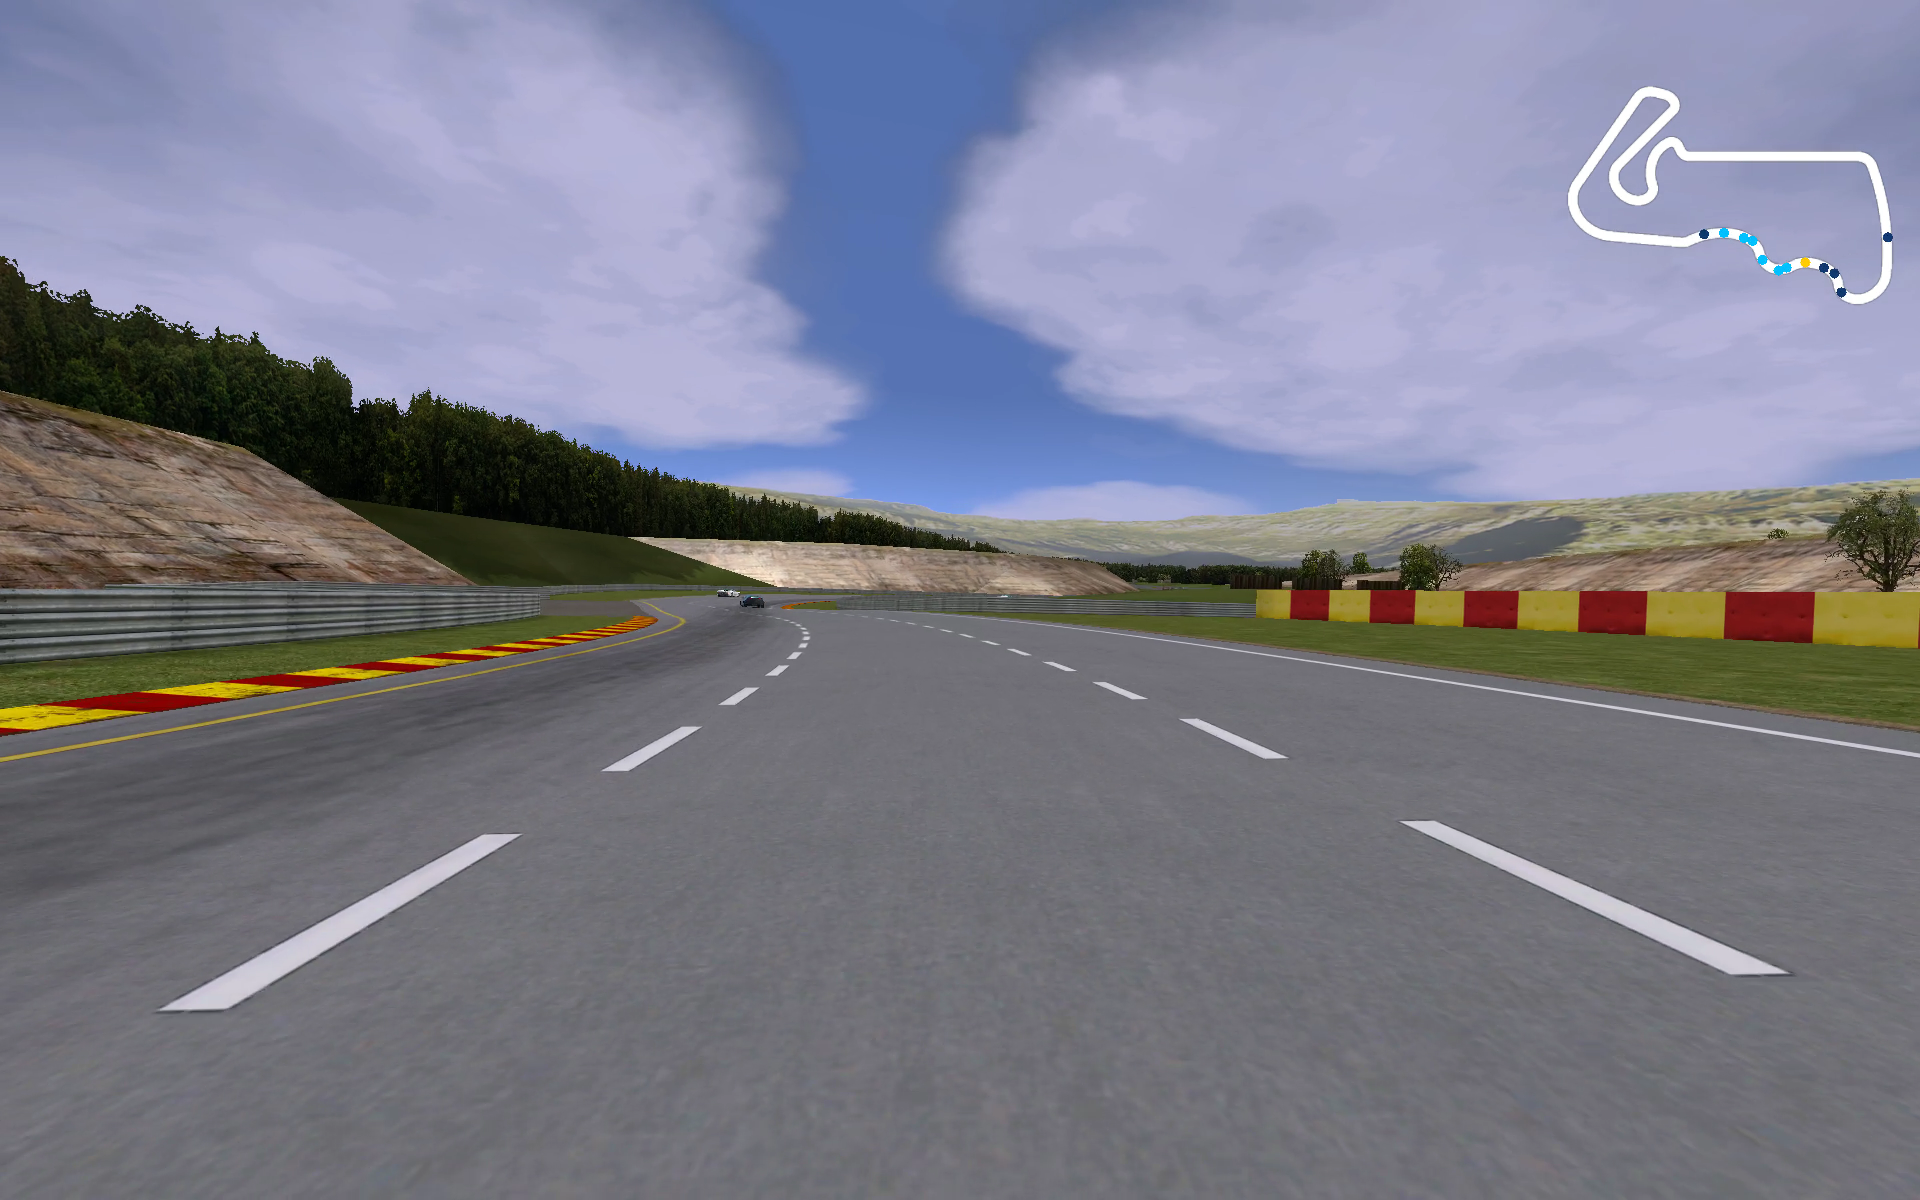car: (737, 592, 763, 610), (715, 585, 738, 599)
